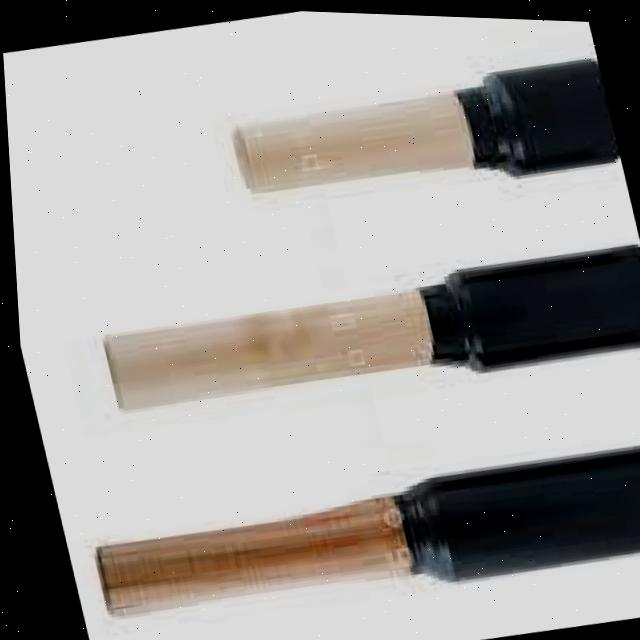grenade: (70, 414, 640, 640), (82, 220, 640, 444), (217, 37, 623, 228)
